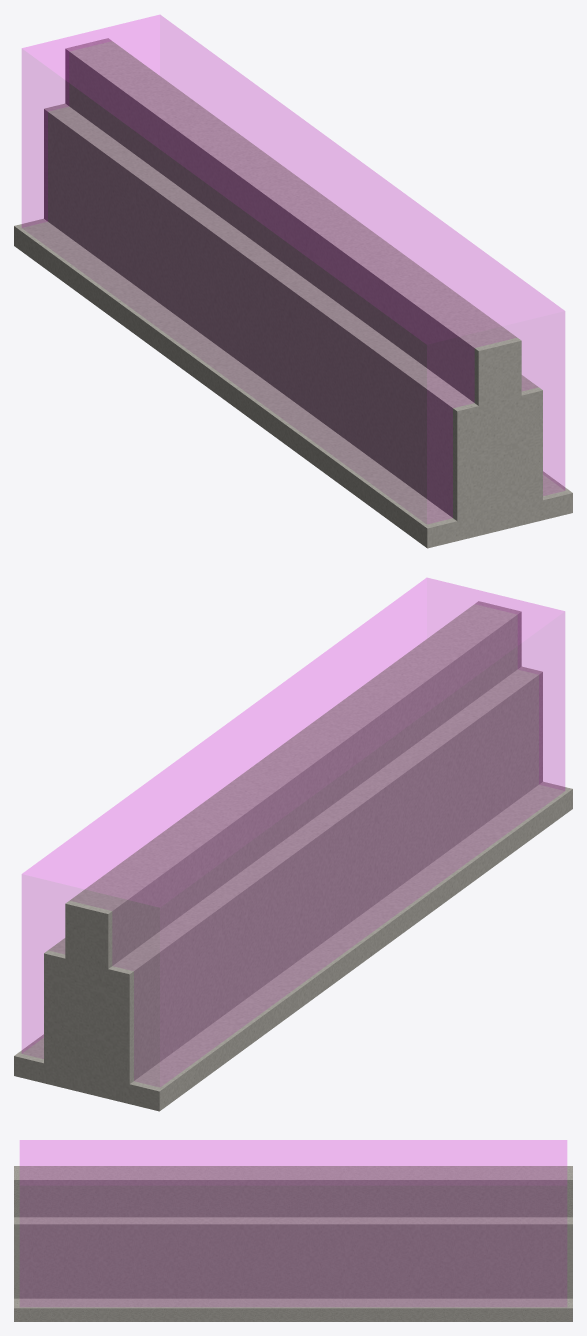
The model's file is krail_blank_3m.dae.
The picture shows the model from 3 angles, top to bottom: view 1: azimuth 30°, elevation 25°; view 2: azimuth 150°, elevation 25°; view 3: azimuth 270°, elevation 25°; orthographic projection. The views are drawn at different scales.
Visible parts, largest first — view 1: Colmesh_krail-1, krail_mid, krail_top, krail_base; view 2: Colmesh_krail-1, krail_mid, krail_top, krail_base; view 3: Colmesh_krail-1, krail_mid, krail_top, krail_base.
Boxes of the visible parts, left/top/right/bottom form: Colmesh_krail-1: left=22, top=15, right=564, bottom=523; krail_mid: left=44, top=103, right=542, bottom=521; krail_top: left=65, top=38, right=521, bottom=405; krail_base: left=14, top=218, right=572, bottom=548; Colmesh_krail-1: left=22, top=578, right=564, bottom=1086; krail_mid: left=44, top=666, right=542, bottom=1084; krail_top: left=65, top=601, right=521, bottom=968; krail_base: left=14, top=781, right=572, bottom=1111; Colmesh_krail-1: left=20, top=1140, right=566, bottom=1306; krail_mid: left=14, top=1217, right=572, bottom=1298; krail_top: left=14, top=1166, right=572, bottom=1217; krail_base: left=14, top=1298, right=572, bottom=1321.
Size of the model in its own units: 0.61 by 3 by 0.8.
2 materials, 1 textured.
